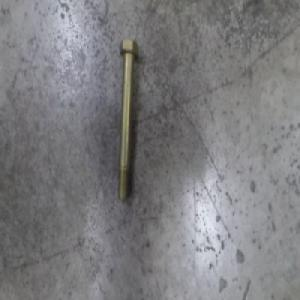Bolt: (115, 34, 139, 203)
